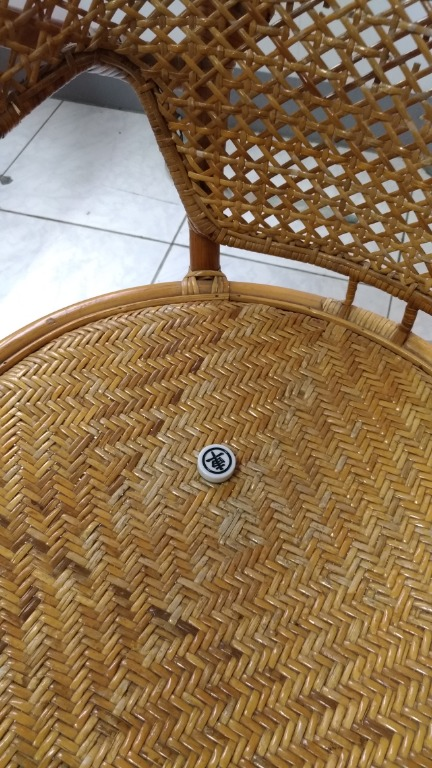b-king: (181, 435, 253, 496)
